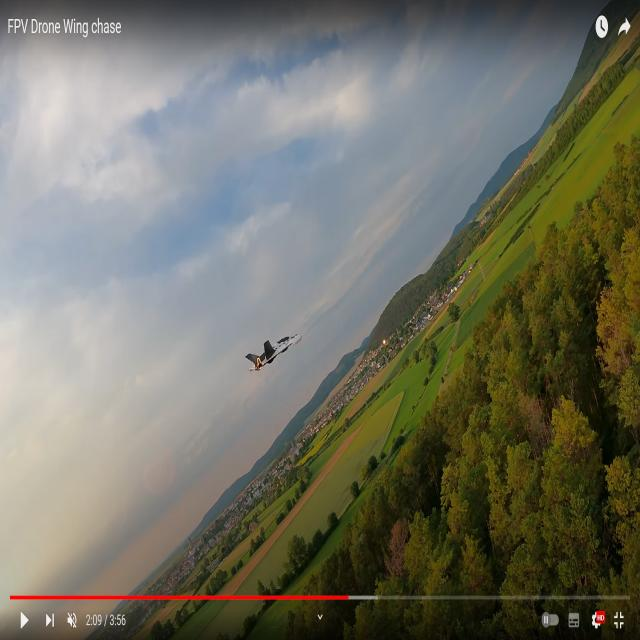iha: (251, 330, 300, 378)
